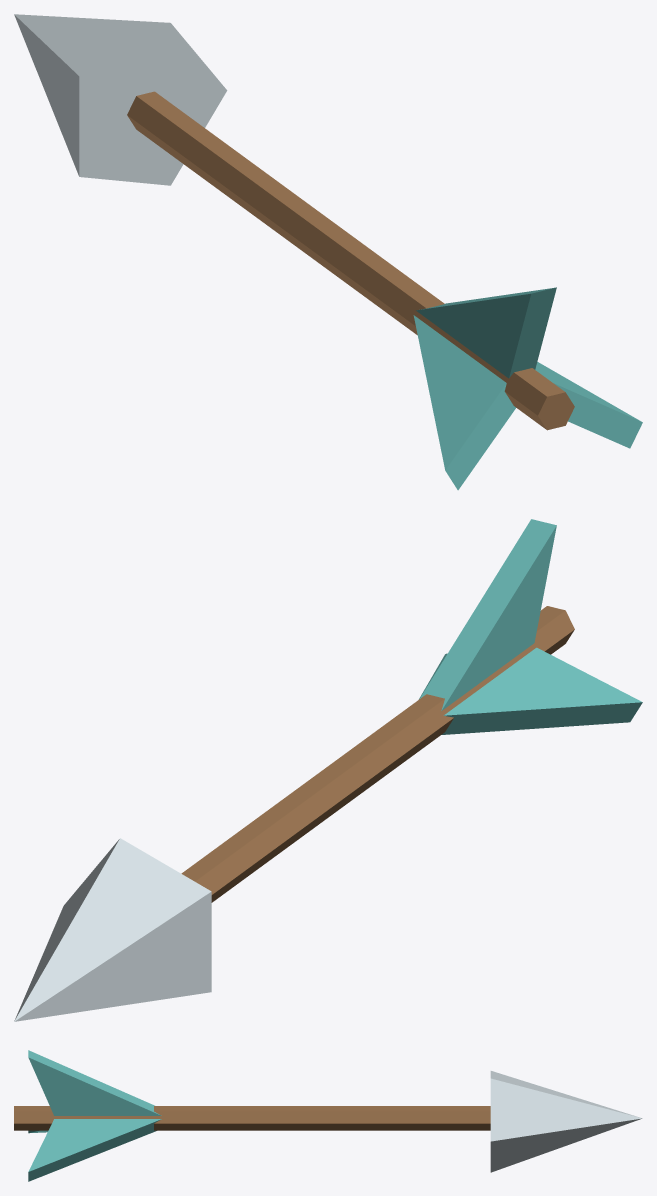
Rendered from projectile_arrow_v2.glb.
The picture shows the model from 3 angles, top to bottom: view 1: azimuth 30°, elevation 25°; view 2: azimuth 150°, elevation 25°; view 3: azimuth 270°, elevation 25°; orthographic projection. The views are drawn at different scales.
Parts seen in each view (by area): view 1: arrowhead, shaft, fletching_1, fletching_0, fletching_2; view 2: arrowhead, shaft, fletching_0, fletching_1; view 3: shaft, arrowhead, fletching_2, fletching_0.
Boxes of the visible parts, <box> form: arrowhead: <box>14,14,227,185</box>; shaft: <box>127,91,574,430</box>; fletching_1: <box>413,315,515,490</box>; fletching_0: <box>416,287,556,378</box>; fletching_2: <box>535,362,642,448</box>; arrowhead: <box>14,838,211,1021</box>; shaft: <box>181,606,574,902</box>; fletching_0: <box>419,519,556,710</box>; fletching_1: <box>441,647,642,734</box>; shaft: <box>14,1106,490,1130</box>; arrowhead: <box>490,1071,642,1172</box>; fletching_2: <box>28,1119,161,1181</box>; fletching_0: <box>28,1050,161,1115</box>.
Bounding box in the file's own units: 0.2778 × 0.2594 × 1.32.
